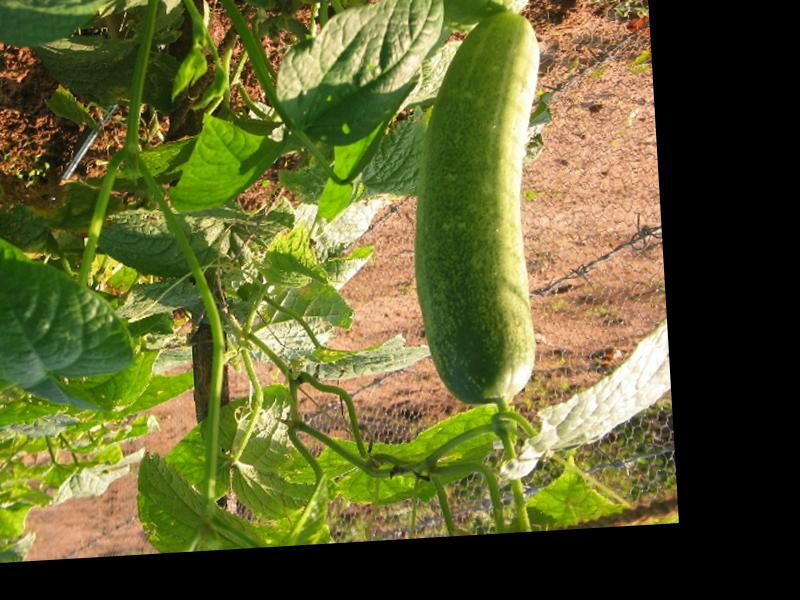Cucumber: (401, 11, 559, 405)
